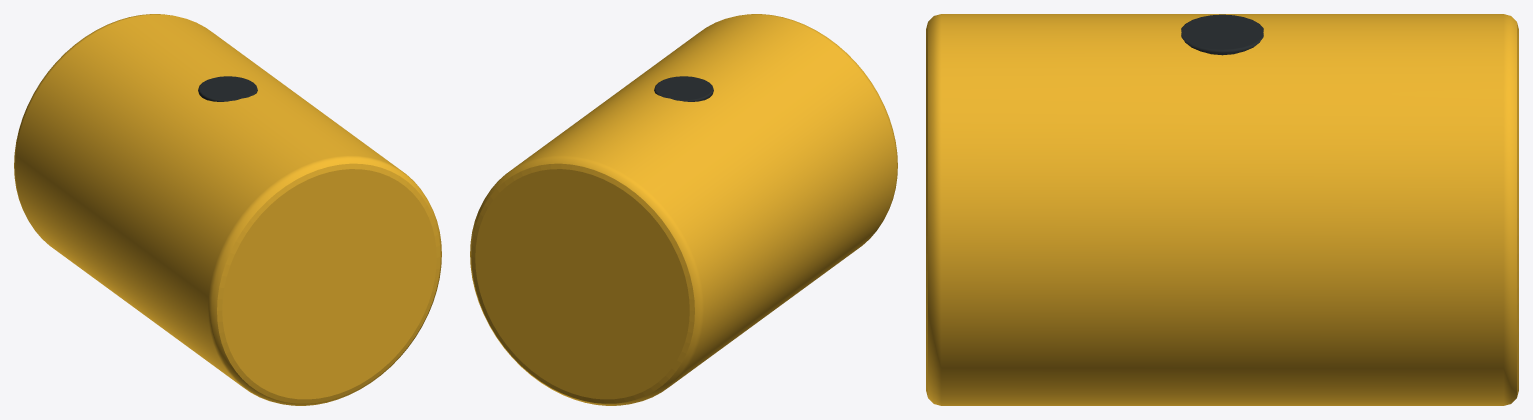
The model's file is hammer-head-toy-round-03.glb.
3 renders of one model, left to right at view 1: azimuth 30°, elevation 25°; view 2: azimuth 150°, elevation 25°; view 3: azimuth 270°, elevation 25°, orthographic. The views are drawn at different scales.
Visible parts, largest first — view 1: HammerHead; view 2: HammerHead; view 3: HammerHead.
Part boxes in pixels (x1=…): HammerHead: x1=14, y1=14, x2=441, y2=405; HammerHead: x1=470, y1=14, x2=897, y2=405; HammerHead: x1=926, y1=14, x2=1518, y2=405.
Size of the model in its own units: 0.9 by 0.9 by 1.36.
